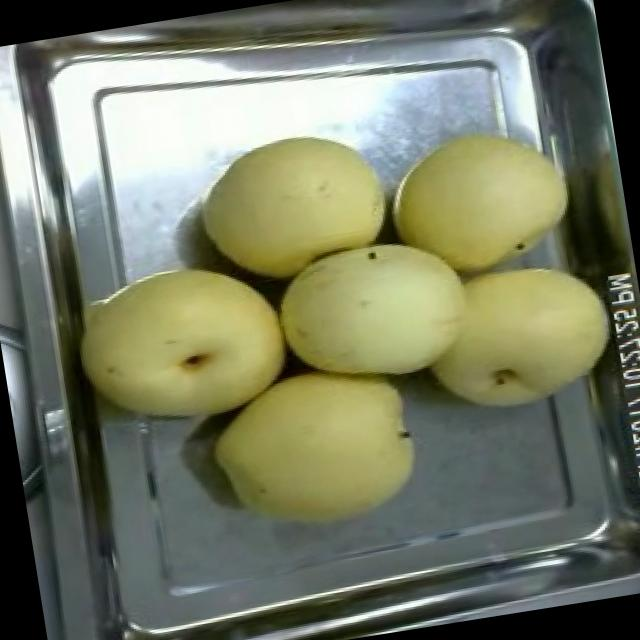Fruit: (59, 240, 304, 446), (196, 342, 437, 550), (182, 114, 408, 306), (404, 238, 632, 428), (262, 222, 484, 400), (374, 110, 584, 295)
